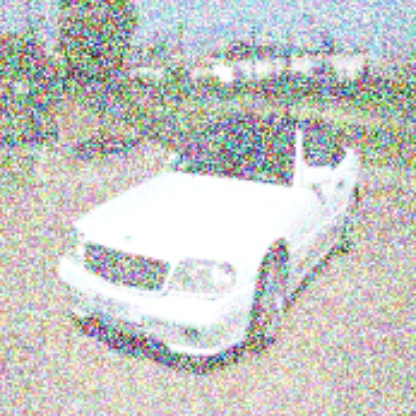Vehicle: (45, 94, 388, 386)
